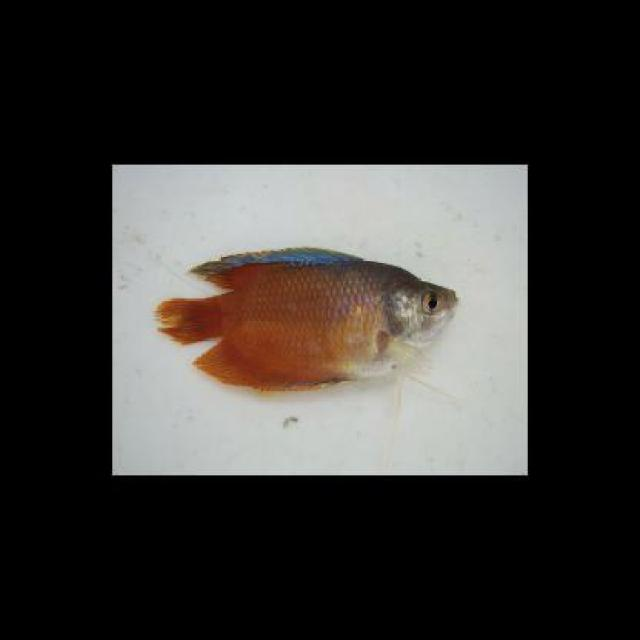Gourami: (152, 241, 460, 396)
